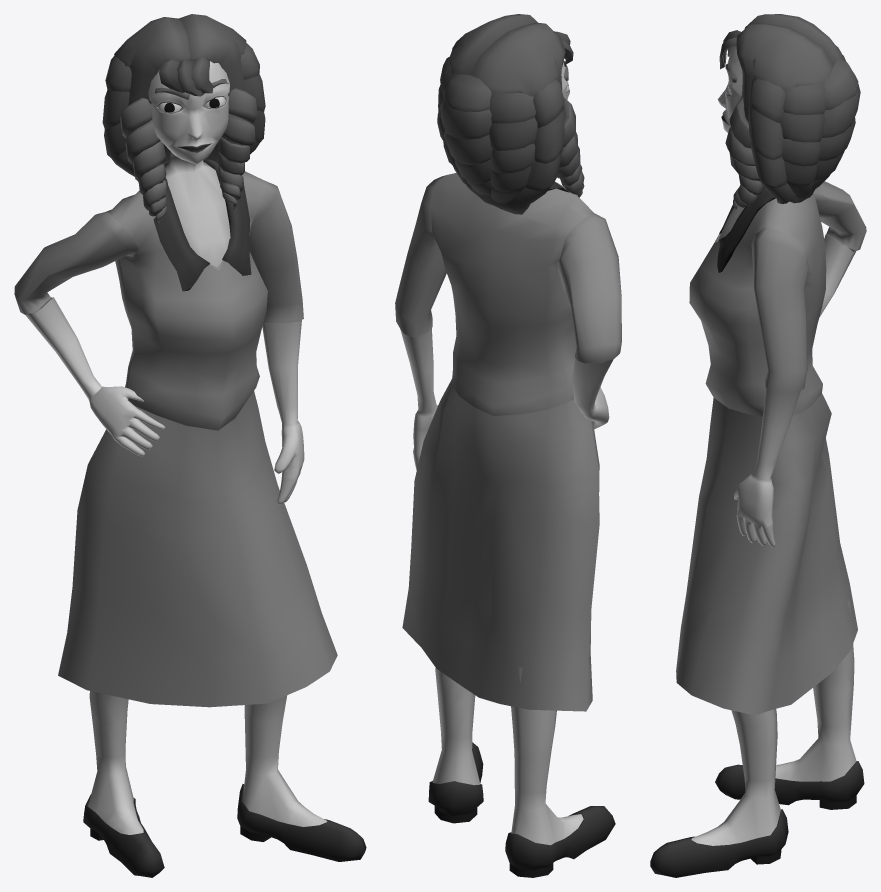
The model's file is sarahPose1.fbx.
3 views of the same model, side by side, from view 1: azimuth 30°, elevation 25°; view 2: azimuth 150°, elevation 25°; view 3: azimuth 270°, elevation 25° (orthographic). The views are drawn at different scales.
Parts seen in each view (by area): view 1: Mesh1, HairMesh, R_hairCurl, L_hairCurl; view 2: Mesh1, HairMesh, R_hairCurl; view 3: Mesh1, HairMesh, L_hairCurl.
Part boxes in pixels (x1,y1,x2,y2): Mesh1: [14, 61, 366, 877]; HairMesh: [102, 14, 265, 176]; R_hairCurl: [120, 98, 166, 224]; L_hairCurl: [216, 88, 257, 209]; Mesh1: [395, 62, 621, 877]; HairMesh: [437, 14, 573, 214]; R_hairCurl: [557, 98, 584, 197]; Mesh1: [650, 46, 866, 877]; HairMesh: [719, 14, 860, 203]; L_hairCurl: [725, 97, 762, 209].
Bounding box in the file's own units: 0.2716 × 0.8121 × 0.1987.
